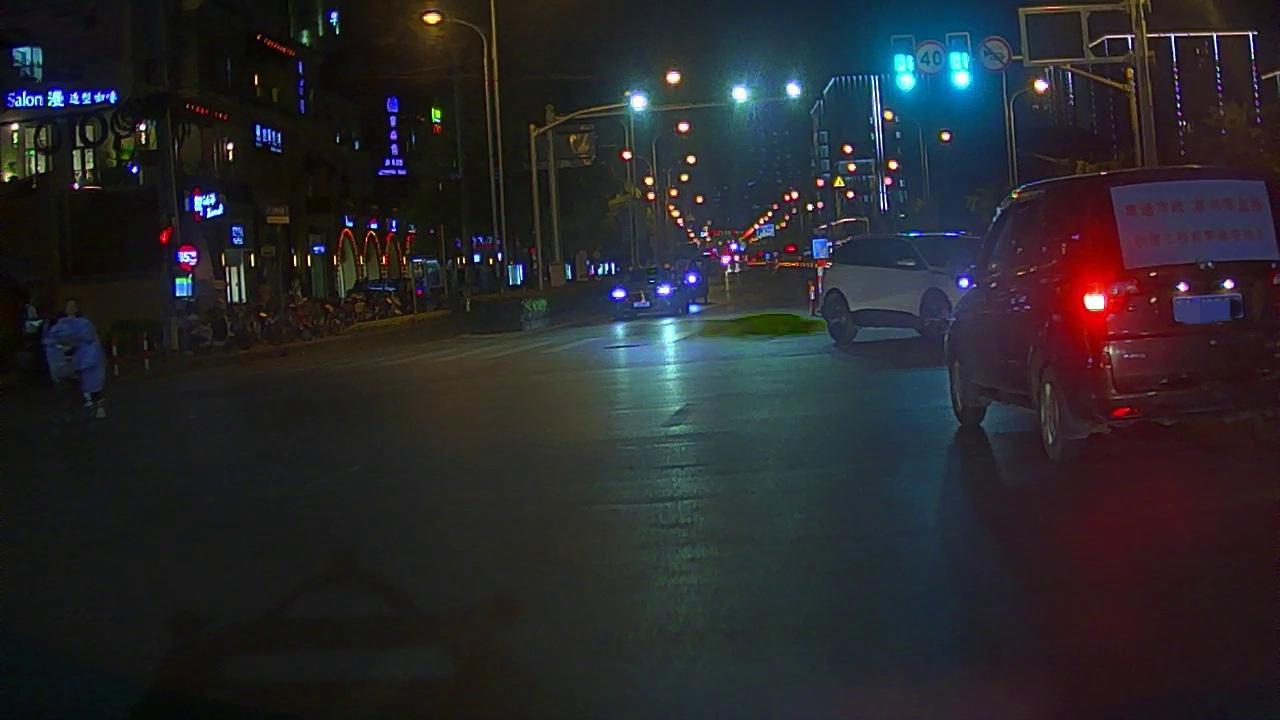traffic_light: (947, 32, 975, 93), (889, 43, 920, 95)
